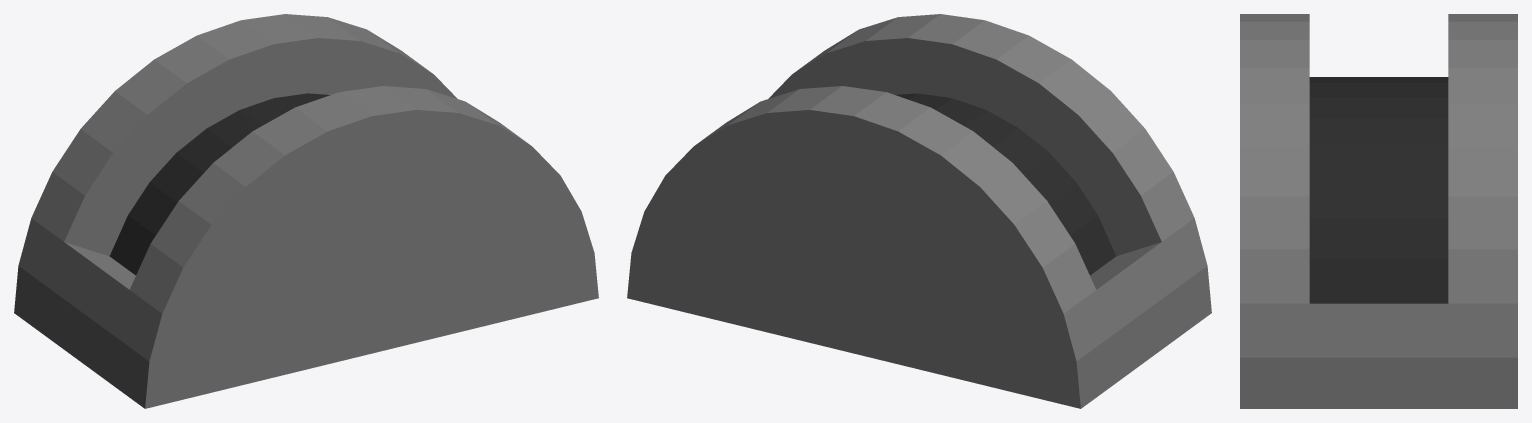
File: Lever Base.glb
The picture shows the model from 3 angles, left to right: view 1: azimuth 30°, elevation 25°; view 2: azimuth 150°, elevation 25°; view 3: azimuth 270°, elevation 25°; orthographic projection. The views are drawn at different scales.
Parts seen in each view (by area): view 1: Cylinder.001; view 2: Cylinder.001; view 3: Cylinder.001.
Boxes of the visible parts, x1=… form: Cylinder.001: x1=14, y1=14, x2=598, y2=408; Cylinder.001: x1=627, y1=14, x2=1211, y2=408; Cylinder.001: x1=1240, y1=14, x2=1517, y2=408.
Bounding box in the file's own units: 2 × 1 × 1.
Materials: 1 (1 with a texture image).
